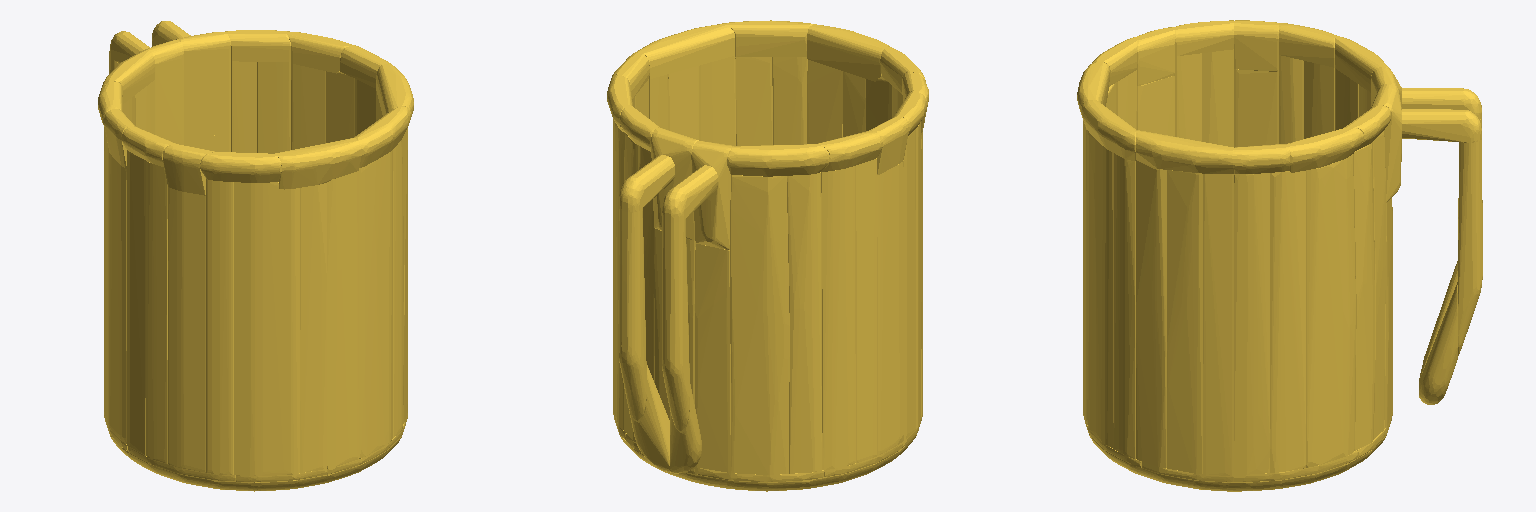
robot.urdf — 165.urdf:
<?xml version="1.0" ?>
<robot name="165.urdf">
	<link name="baseLink">
		<inertial>
			<origin rpy="0 0 0" xyz="0 0 0"/>
				<mass value="0.1"/>
				<inertia ixx="6e-5" ixy="0" ixz="0" iyy="6e-5" iyz="0" izz="6e-5"/>
		</inertial>
		<visual>
			<origin rpy="0 0 0" xyz="0 0 0"/>
			<geometry>
				<mesh filename="28_decom_wt.obj" scale="0.82 0.82 0.95"/>
			</geometry>
			<material name="yellow">
				<color rgba="0.98 0.84 0.35 1"/>
			</material>
		</visual>
		<collision>
			<origin rpy="0 0 0" xyz="0 0 0"/>
			<geometry>
				<mesh filename="28_decom_wt.obj" scale="0.82 0.82 0.95"/>
			</geometry>
		</collision>
	</link>
</robot>

--- What the picture shows (computed from the rendered views, not written in the file) ---
The picture shows the robot from 3 angles, left to right: view 1: azimuth 30°, elevation 25°; view 2: azimuth 150°, elevation 25°; view 3: azimuth 270°, elevation 25°; orthographic projection.
Model 165.urdf with 1 links and 0 joints (none), rooted at baseLink, posed all joints at 0.
Visible links, largest first — view 1: baseLink; view 2: baseLink; view 3: baseLink.
Boxes of the visible links, box(x1,y1,x2,y2) form: baseLink: box(98, 21, 413, 491); baseLink: box(607, 20, 928, 491); baseLink: box(1077, 20, 1482, 491).
Size in the robot's own frame: 0.0952 by 0.1199 by 0.1138 metres.
1 mesh visuals loaded from 1 distinct referenced files (1 OBJ).